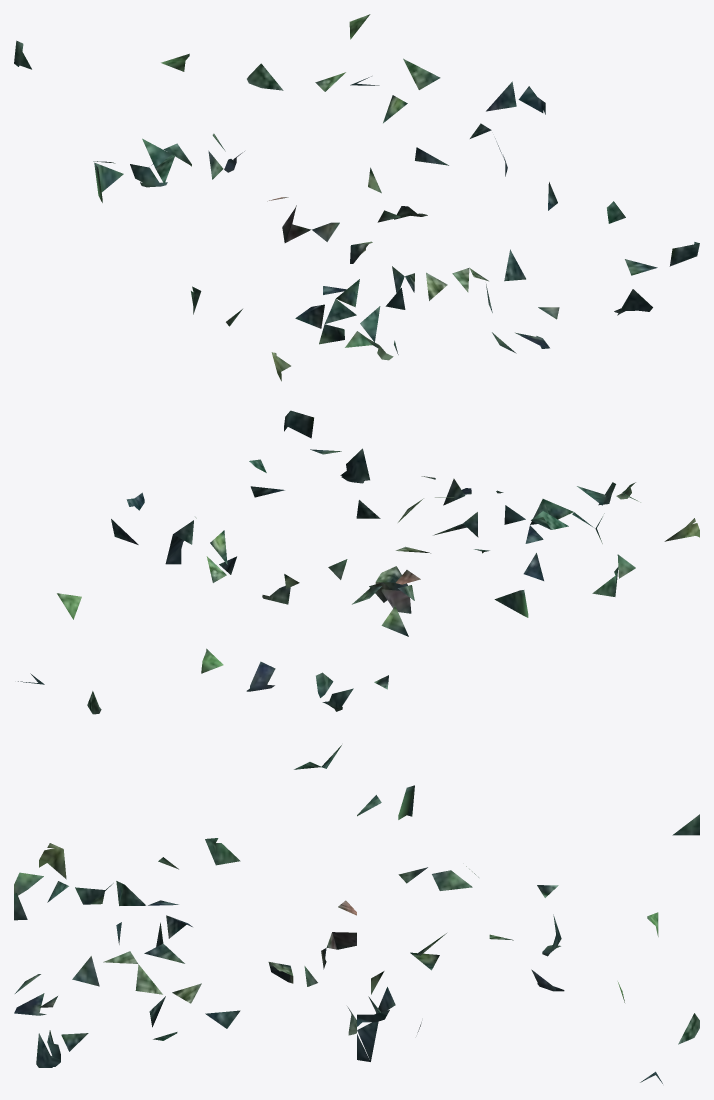
The picture shows the model from 3 angles, top to bottom: view 1: azimuth 30°, elevation 25°; view 2: azimuth 150°, elevation 25°; view 3: azimuth 270°, elevation 25°; orthographic projection. The views are drawn at different scales.
Visible parts, largest first — view 1: 30436272704361516714_1; view 2: 30436272704361516714_1; view 3: 30436272704361516714_1.
Part boxes in pixels (box(x1,y1,x2,y2)): 30436272704361516714_1: box(14, 14, 699, 381); 30436272704361516714_1: box(18, 410, 699, 714); 30436272704361516714_1: box(14, 745, 699, 1083).
Bounding box in the file's own units: 27.32 × 9.24 × 38.26.
1 material, 1 textured.
